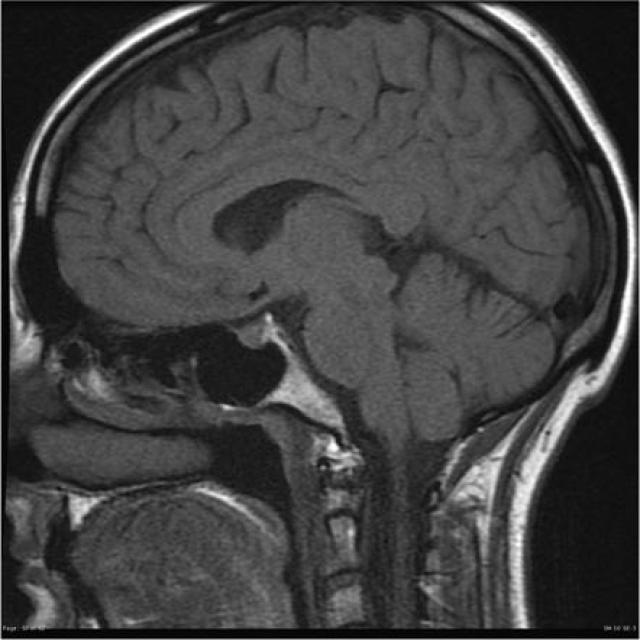pituitary: (256, 300, 370, 473)
